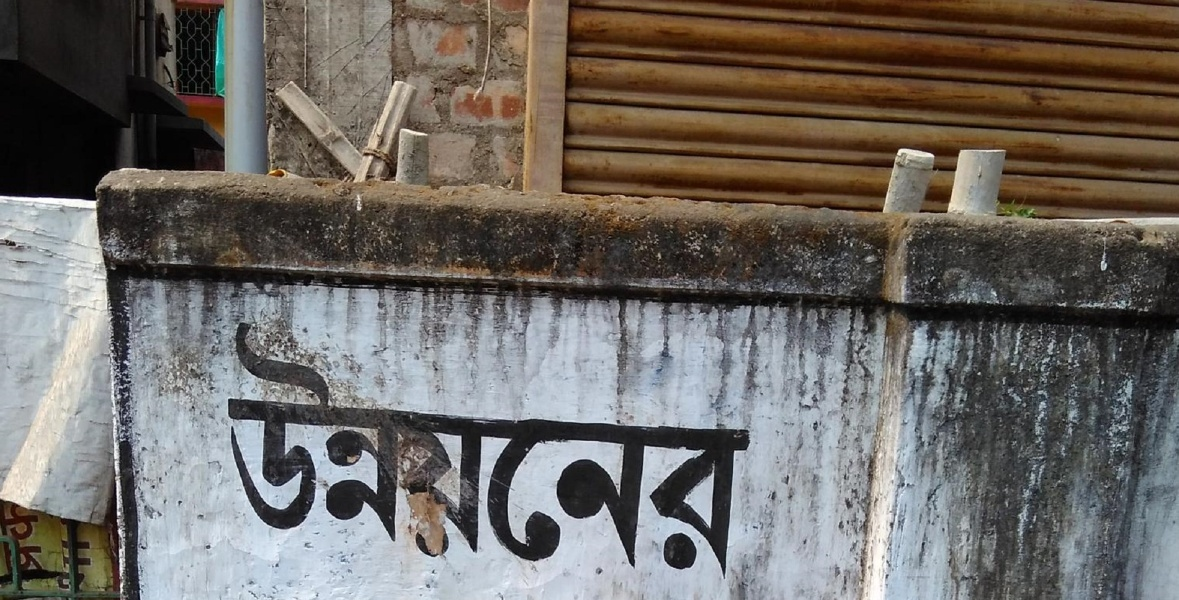text: (225, 313, 240, 584), (241, 313, 256, 584), (257, 313, 272, 584), (273, 313, 288, 584), (289, 313, 304, 584), (305, 313, 320, 584), (321, 313, 336, 584), (337, 313, 352, 584), (353, 313, 368, 584), (369, 313, 384, 584), (385, 313, 400, 584), (401, 313, 416, 584), (417, 313, 432, 584), (433, 313, 448, 584), (449, 313, 464, 584), (465, 313, 480, 584), (481, 313, 496, 584), (497, 313, 512, 584), (513, 313, 528, 584), (529, 313, 544, 584), (545, 313, 560, 584), (561, 313, 576, 584), (577, 313, 592, 584), (593, 313, 608, 584), (609, 313, 624, 584), (625, 313, 640, 584), (641, 313, 656, 584), (657, 313, 672, 584), (673, 313, 688, 584), (689, 313, 704, 584), (705, 313, 720, 584), (721, 313, 736, 584), (737, 313, 752, 584), (215, 313, 224, 584), (753, 313, 761, 584), (17, 499, 32, 583), (2, 499, 16, 583), (33, 499, 47, 583), (65, 535, 80, 592), (81, 535, 92, 592), (54, 535, 64, 592)
